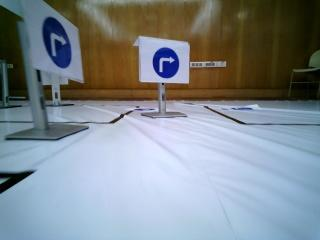right: (29, 2, 80, 80), (137, 37, 190, 81)
